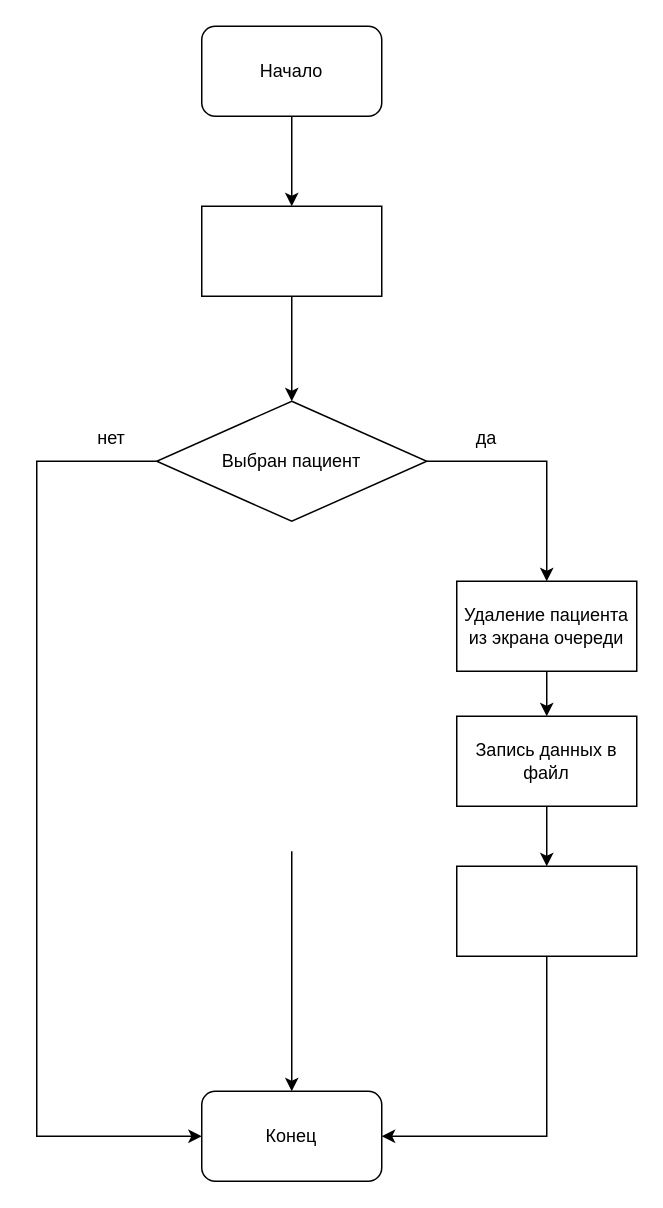
Image size: 663x1208. Some labels were removed from this diagram. Here are the shapes that lost their labels. From the top down, the centre of each, then its label:
At point 291,250: "Выбор пациента".
At point 546,910: "Перенумерация существующих пациентов".
